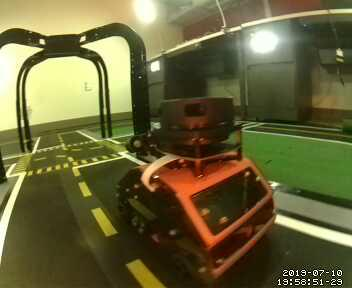pheeno: (112, 95, 276, 285)
